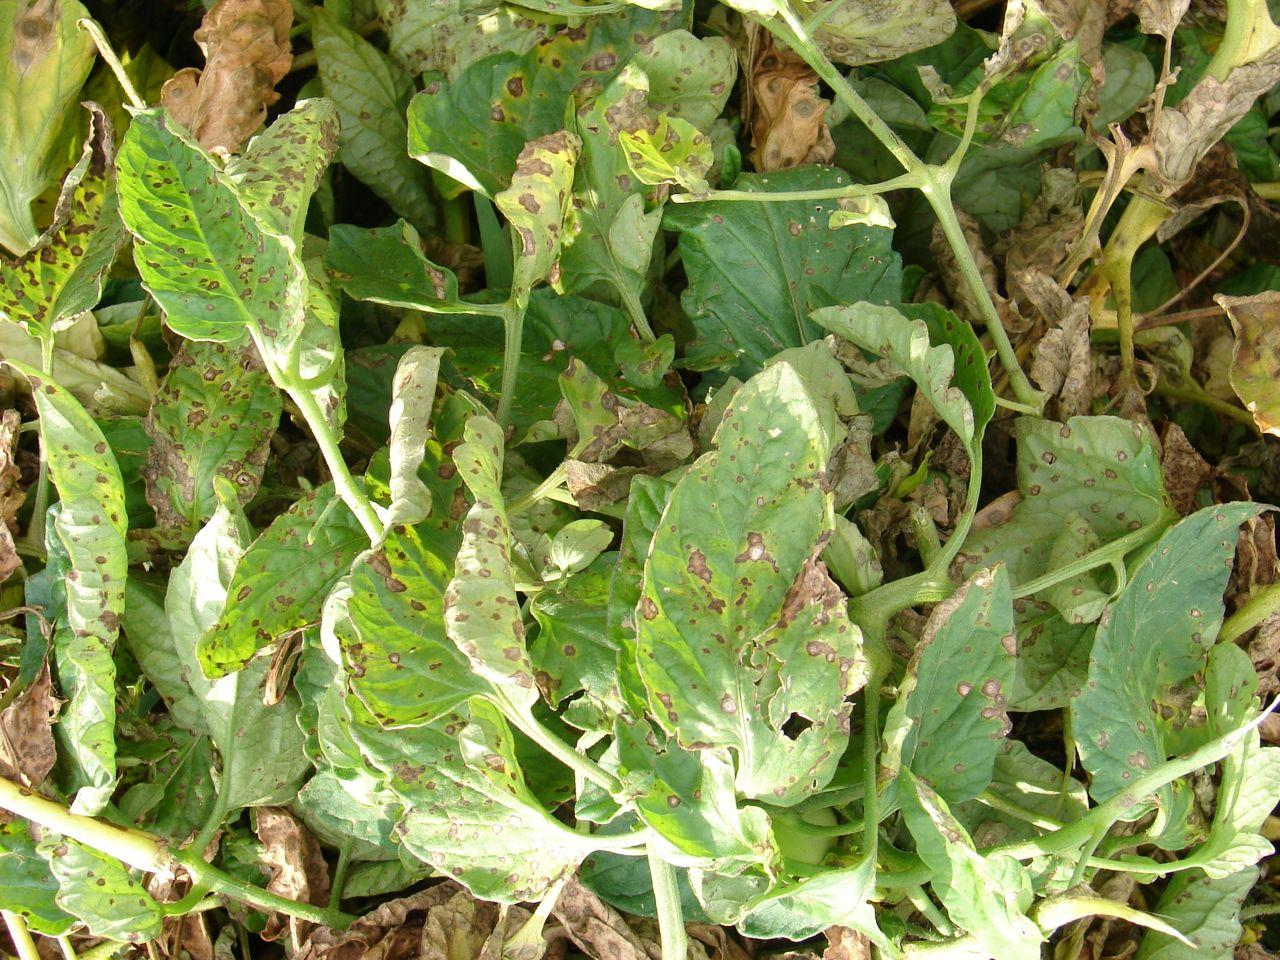Tomato Septoria leaf spot: (636, 345, 880, 815), (296, 632, 593, 924), (348, 403, 545, 736), (92, 91, 315, 362), (869, 546, 1045, 825), (196, 446, 390, 683), (401, 37, 576, 279)
